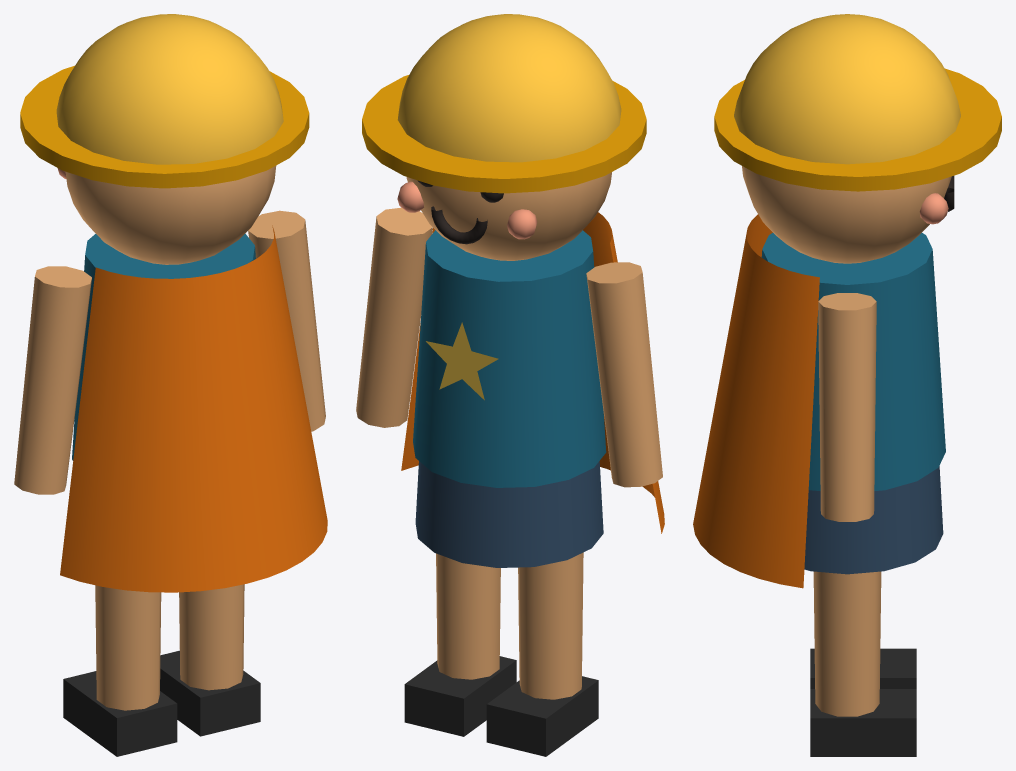
File: bayani.fbx
The picture shows the model from 3 angles, left to right: view 1: azimuth 30°, elevation 25°; view 2: azimuth 150°, elevation 25°; view 3: azimuth 270°, elevation 25°; orthographic projection.
Visible parts, largest first — view 1: M__bayani-body, M__bayani-armL, M__bayani-shinL, M__bayani-shinR, M__bayani-armR, M__bayani-legL, M__bayani-legR; view 2: M__bayani-body, M__bayani-armL, M__bayani-armR, M__bayani-shinL, M__bayani-shinR, M__bayani-legL, M__bayani-legR; view 3: M__bayani-body, M__bayani-armR, M__bayani-shinR, M__bayani-legR, M__bayani-shinL.
Boxes of the visible parts, box(x1,y1,x2,y2) form: M__bayani-body: box(20, 14, 327, 592); M__bayani-armL: box(14, 266, 91, 494); M__bayani-shinL: box(63, 608, 177, 756); M__bayani-shinR: box(160, 587, 260, 736); M__bayani-armR: box(248, 210, 325, 431); M__bayani-legL: box(95, 585, 161, 623); M__bayani-legR: box(179, 584, 244, 603); M__bayani-body: box(362, 14, 664, 567); M__bayani-armL: box(586, 262, 662, 487); M__bayani-armR: box(356, 207, 432, 427); M__bayani-shinL: box(486, 598, 598, 756); M__bayani-shinR: box(404, 578, 516, 736); M__bayani-legL: box(518, 552, 583, 614); M__bayani-legR: box(436, 553, 500, 594); M__bayani-body: box(693, 14, 1001, 588); M__bayani-armR: box(818, 293, 876, 521); M__bayani-shinR: box(810, 617, 916, 756); M__bayani-legR: box(813, 571, 881, 630); M__bayani-shinL: box(810, 648, 916, 688).
Size of the model in its own units: 0.6547 by 1.45 by 0.58.
